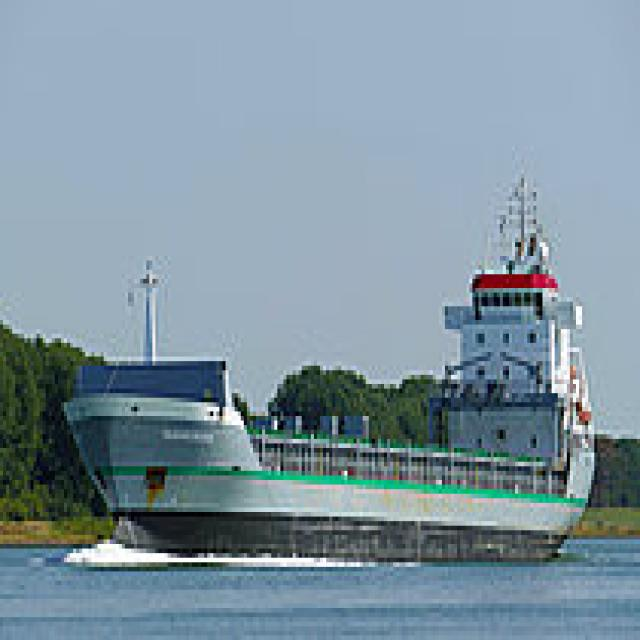Cargo: (55, 155, 594, 558)
